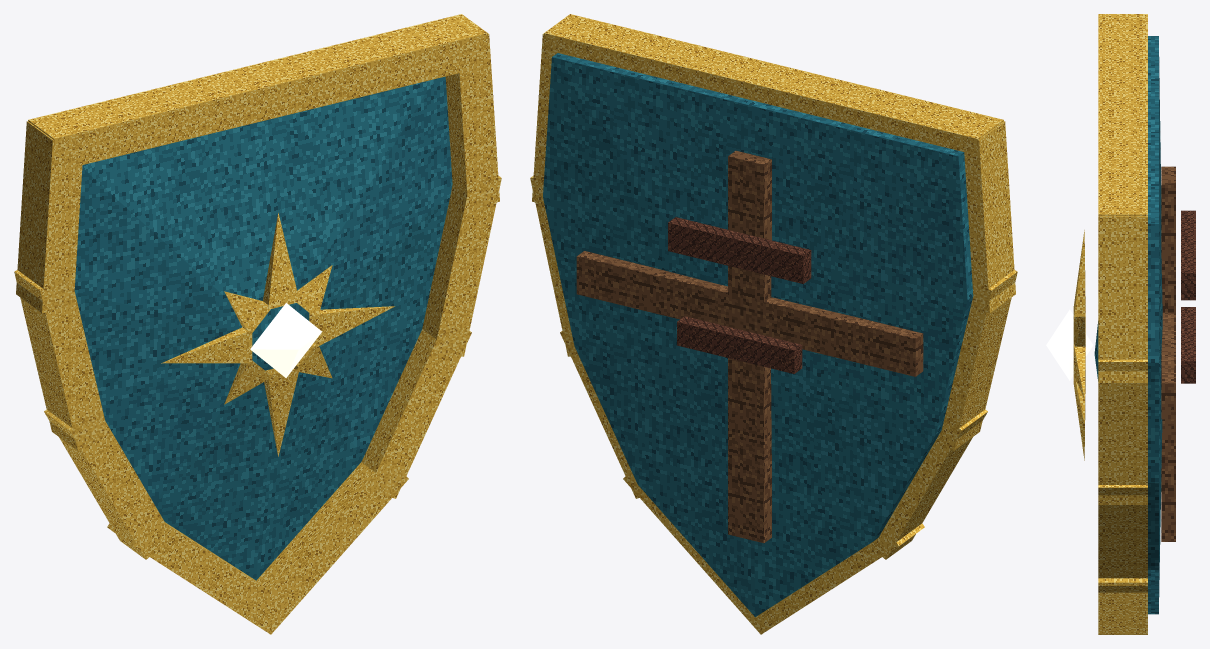
The model's file is shield_gildcrest.glb.
3 renders of one model, left to right at view 1: azimuth 30°, elevation 25°; view 2: azimuth 150°, elevation 25°; view 3: azimuth 270°, elevation 25°, orthographic. The views are drawn at different scales.
Parts seen in each view (by area): view 1: Shield; view 2: Shield; view 3: Shield.
Part boxes in pixels (x1,y1,x2,y2): Shield: (14, 14, 501, 634); Shield: (530, 14, 1017, 634); Shield: (1046, 14, 1195, 634).
Bounding box in the file's own units: 1.02 × 1.16 × 0.303.
5 materials, 4 textured.
